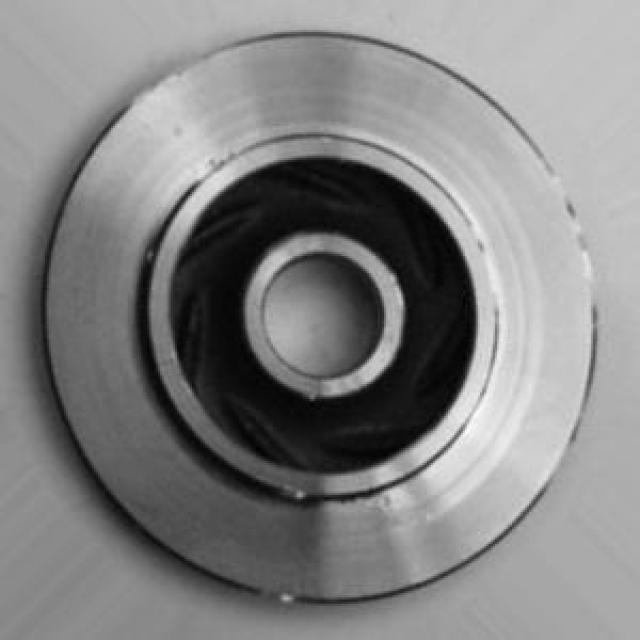Defect: (269, 479, 315, 508)
